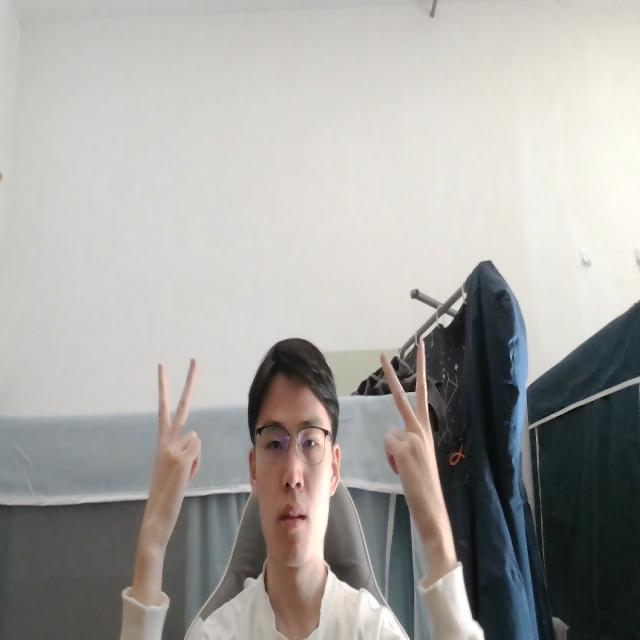yes: (375, 336, 451, 550), (140, 351, 206, 548)
